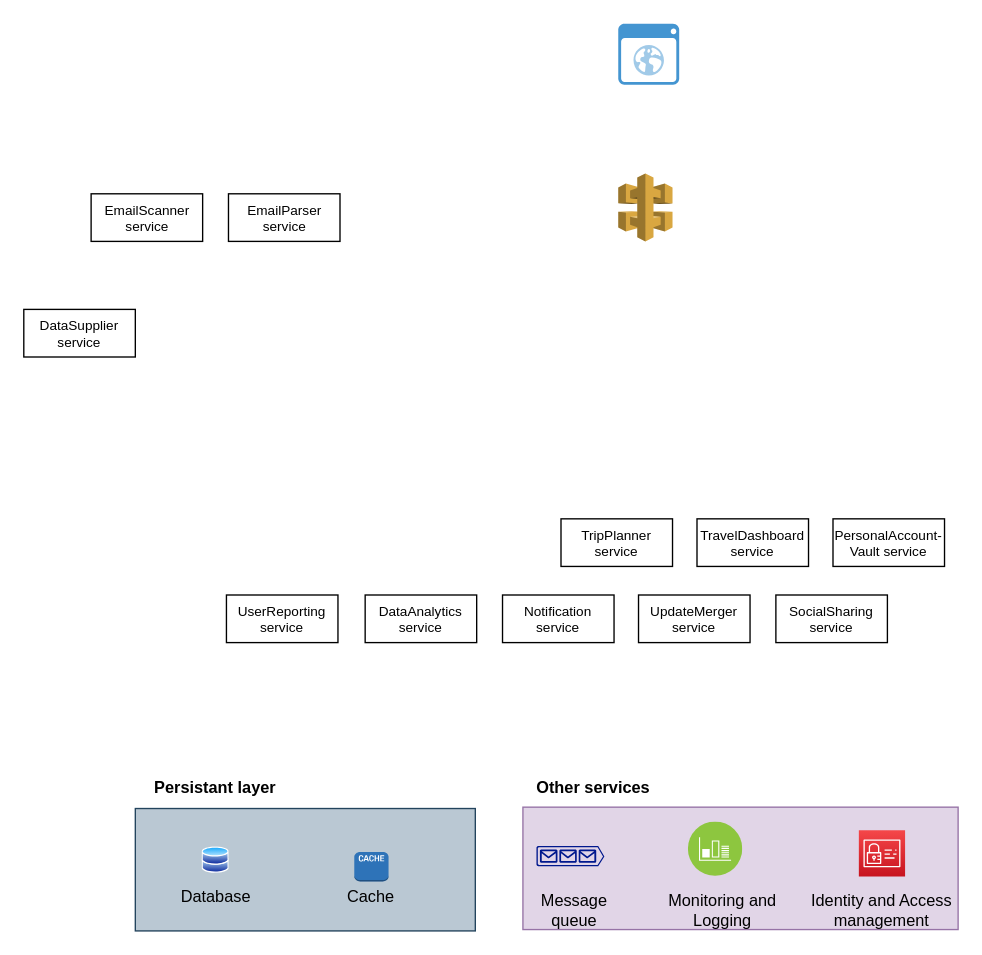
The diagram is 982 pixels wide and 955 high, and some of its shapes have lost their labels. Here are the shapes that lost their labels. From the top down, the box of each, then its label:
(618, 23, 679, 84): Progressive Web App (PWA)
(617, 172, 673, 241): API Gateway
